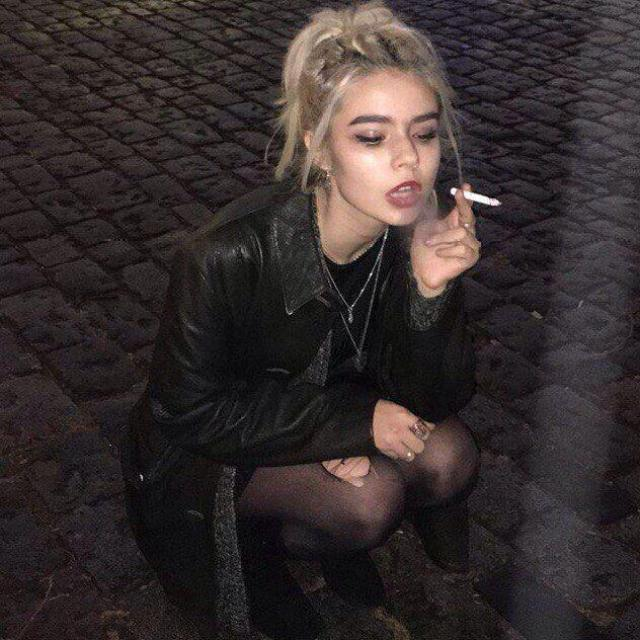cigarette: (444, 175, 506, 213)
